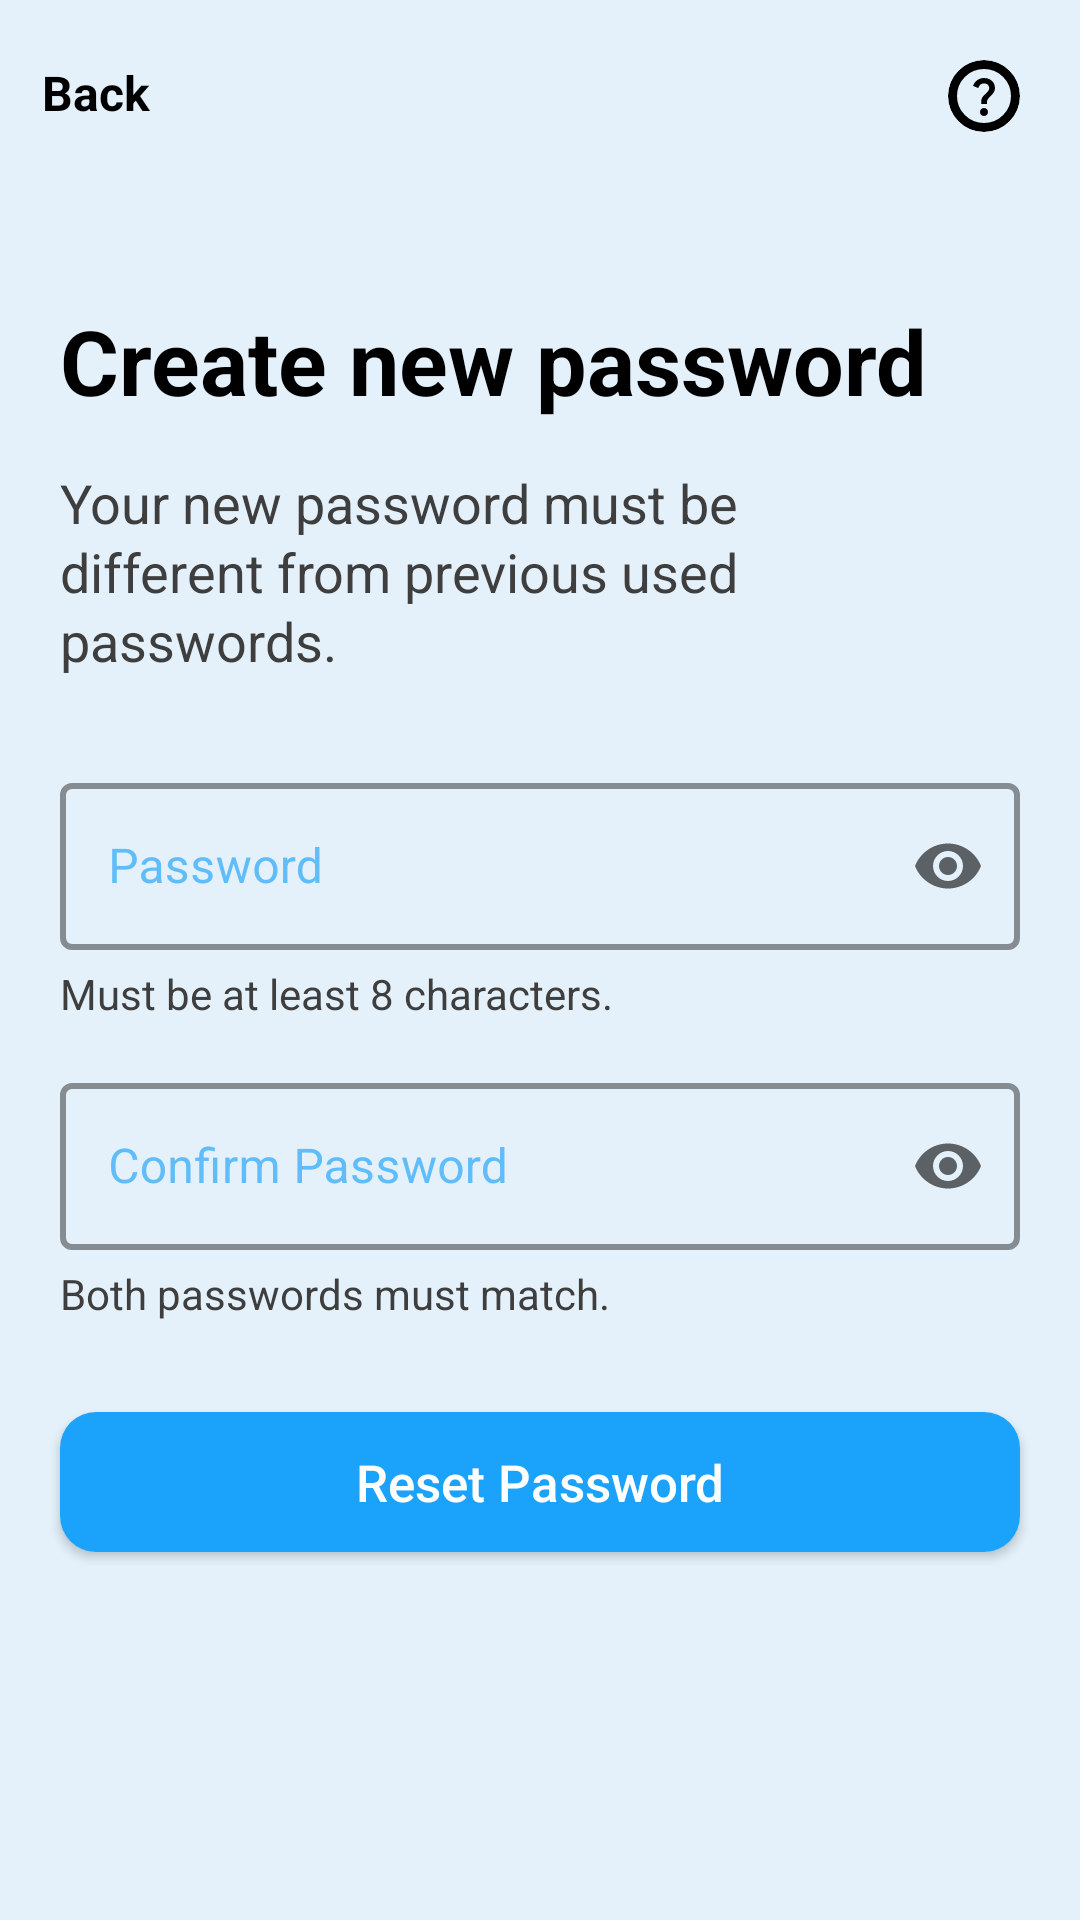

Named icons in this screenshot (1080 x 1920) and their centers, point (x, y):
question mark: point (984, 96)
